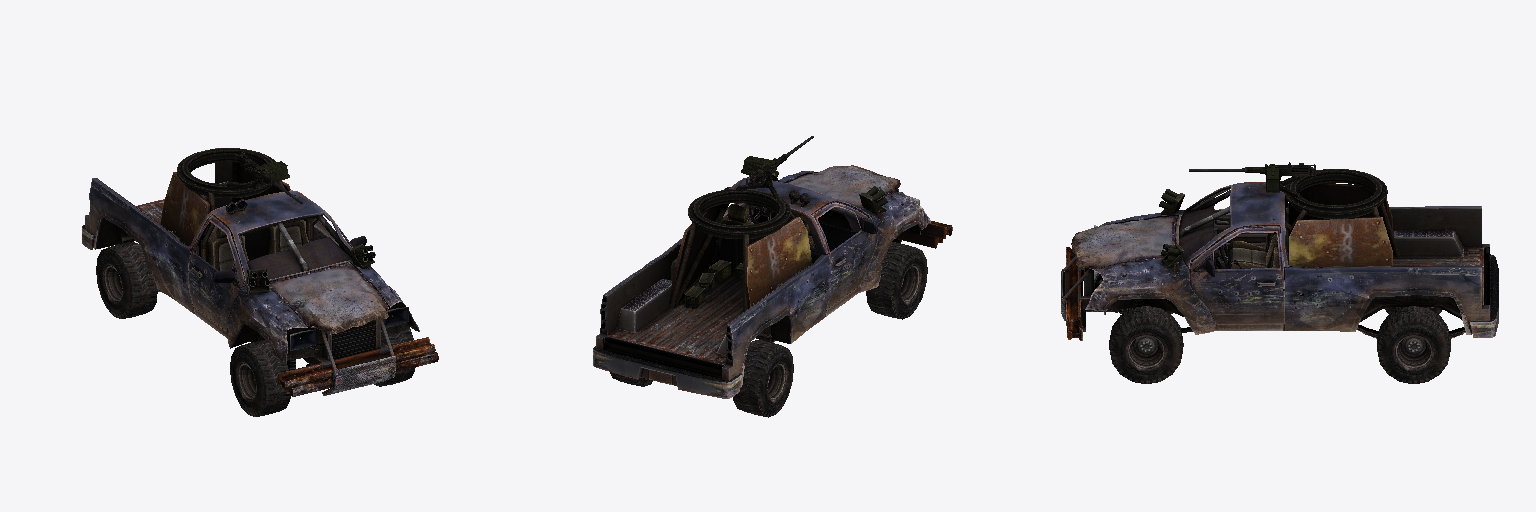
3 renders of one model, left to right at view 1: azimuth 30°, elevation 25°; view 2: azimuth 150°, elevation 25°; view 3: azimuth 270°, elevation 25°, orthographic.
Parts seen in each view (by area): view 1: Object_t0143_0.jpg, Object_t0147_0.jpg; view 2: Object_t0143_0.jpg, Object_t0147_0.jpg; view 3: Object_t0143_0.jpg, Object_t0147_0.jpg.
Part boxes in pixels (left/top/right/bottom): Object_t0143_0.jpg: left=82, top=148, right=438, bottom=416; Object_t0147_0.jpg: left=177, top=148, right=302, bottom=203; Object_t0143_0.jpg: left=593, top=165, right=952, bottom=417; Object_t0147_0.jpg: left=688, top=136, right=813, bottom=238; Object_t0143_0.jpg: left=1061, top=182, right=1498, bottom=383; Object_t0147_0.jpg: left=1189, top=162, right=1387, bottom=218.
Size of the model in its own units: 1.02 by 1.16 by 2.5.
Materials: 3 (2 with a texture image).